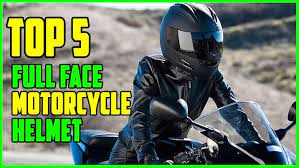helmets: (154, 2, 230, 86)
